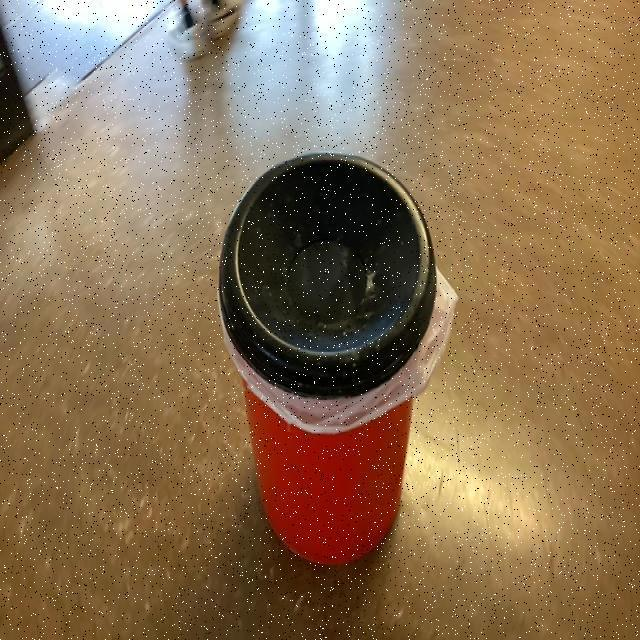garbage container: (147, 121, 511, 603)
